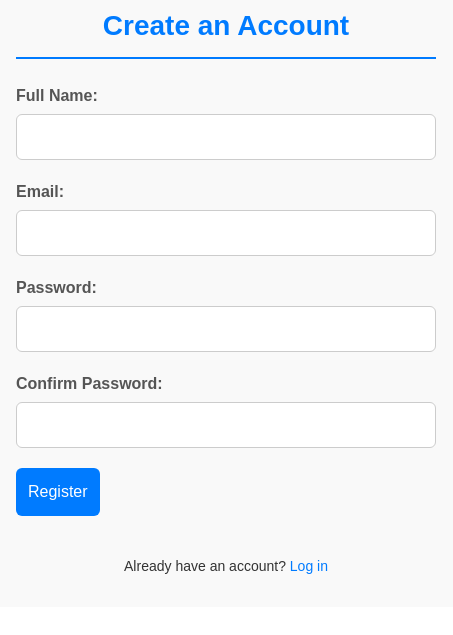
Test: <Register /> › shows error for invalid email
Step 1. Type "Test User" into the field with test id "name-input" → (226, 137), box x1=16 y1=114 x2=436 y2=160
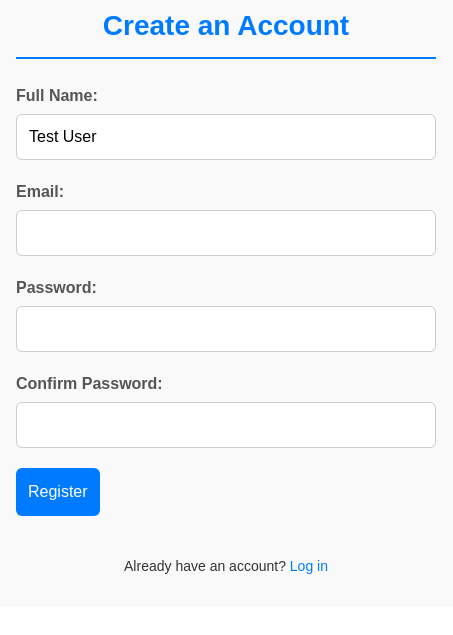
Step 2. Type "invalidExample" into the field with test id "email-input" → (226, 233), box x1=16 y1=210 x2=436 y2=256
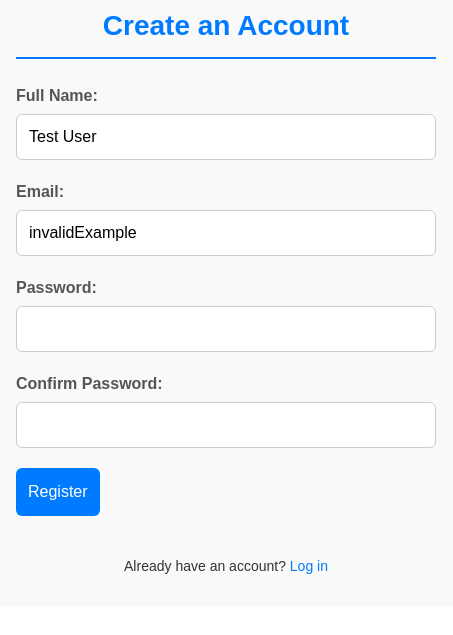
Step 3. Type "Abc123!" into the password field with test id "password-input" → (226, 329), box x1=16 y1=306 x2=436 y2=352
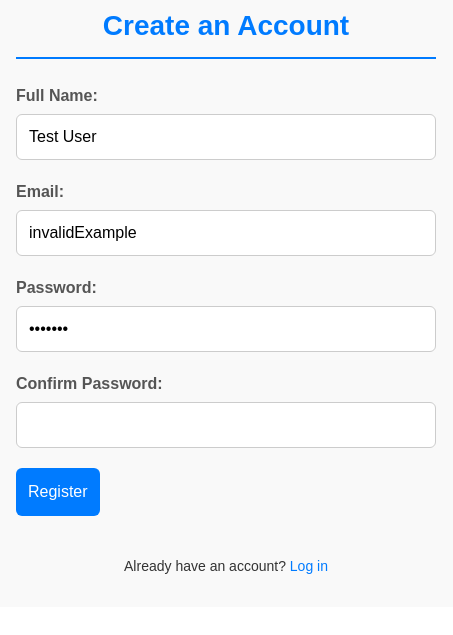
Step 4. Type "Abc123!" into the password field with test id "confirm-password-input" → (226, 425), box x1=16 y1=402 x2=436 y2=448
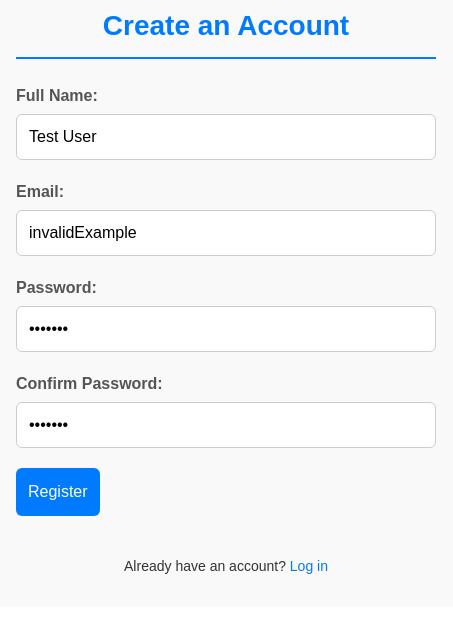
Step 5. Click the button with test id "register-button" → (58, 492), box x1=16 y1=468 x2=100 y2=516
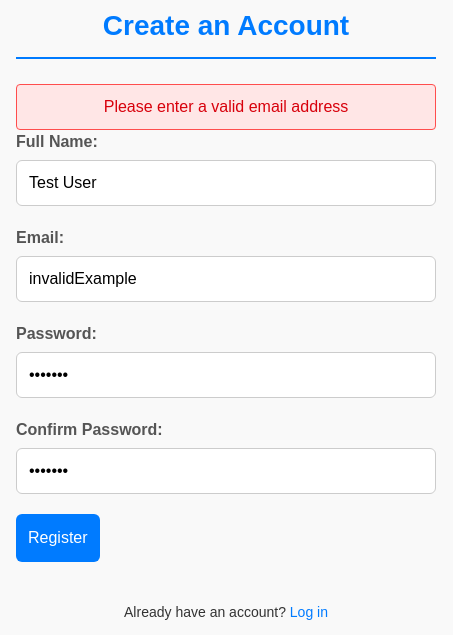
Expected: the text "Please enter a valid email address" is shown, x1=16 y1=84 x2=436 y2=130
